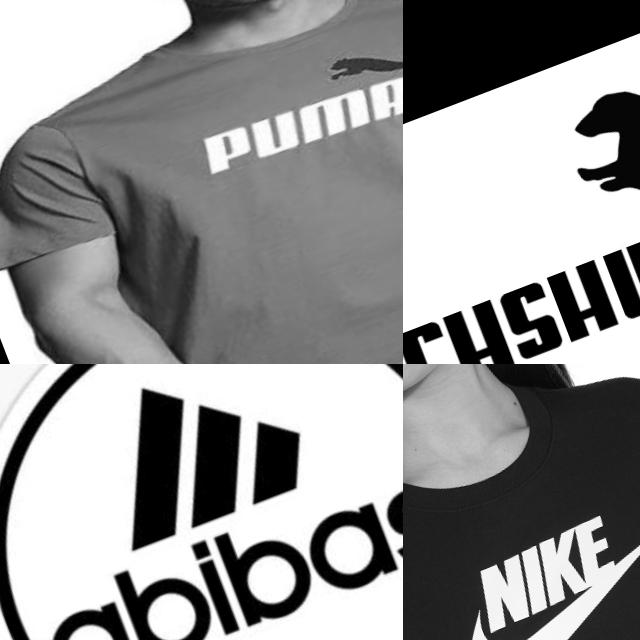ADIDAS_fake: (0, 364, 403, 640), (18, 437, 403, 640), (70, 364, 325, 562)
NIKE_original: (403, 456, 640, 640)
PUMA_fake: (403, 33, 640, 364)
PUMA_original: (148, 14, 403, 213)
